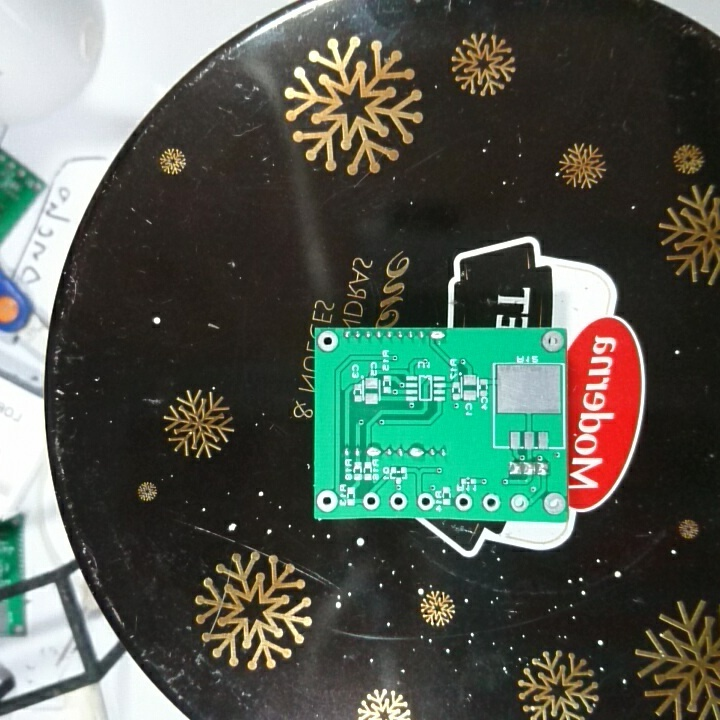F: (542, 490, 567, 518), (314, 488, 339, 515), (479, 490, 505, 514), (540, 329, 565, 353), (508, 492, 532, 517), (316, 329, 340, 353), (361, 490, 382, 512), (388, 491, 409, 513), (454, 491, 474, 513), (415, 491, 435, 512)
P: (407, 442, 426, 460), (364, 444, 383, 459), (428, 329, 448, 343)
